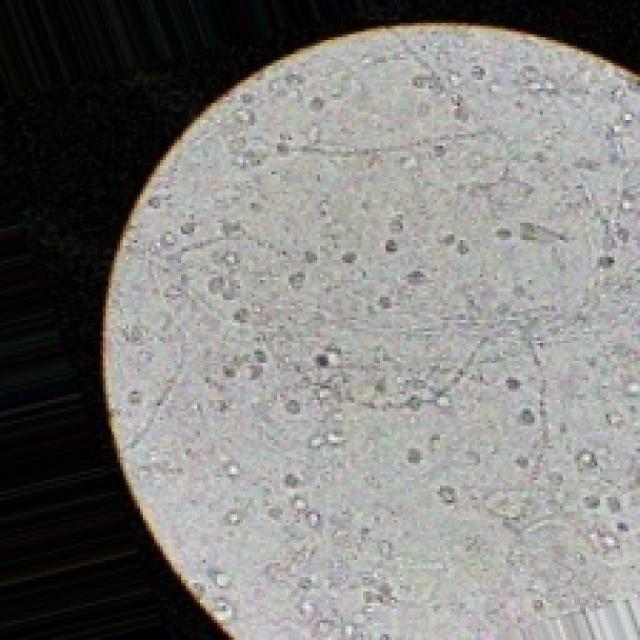Rod_bacteria: (97, 17, 637, 637)
